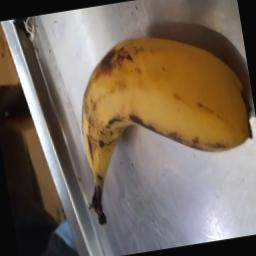Banana Overripe: (51, 15, 256, 222)
